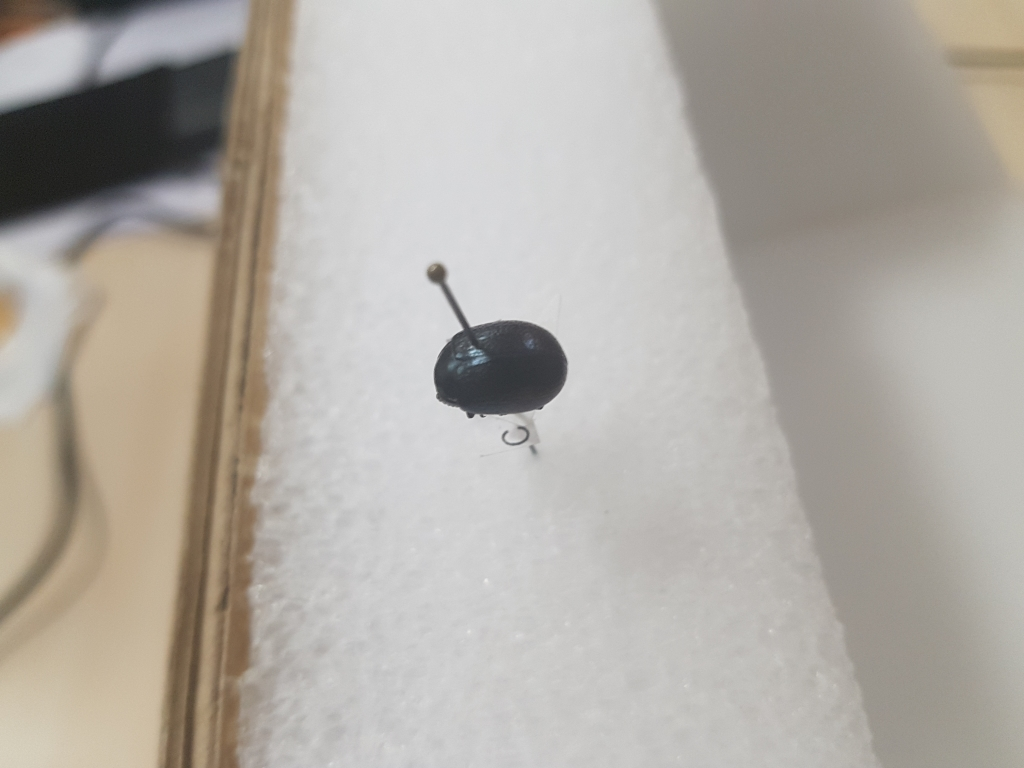Chrysolina_oricalcia: (431, 315, 572, 417)
